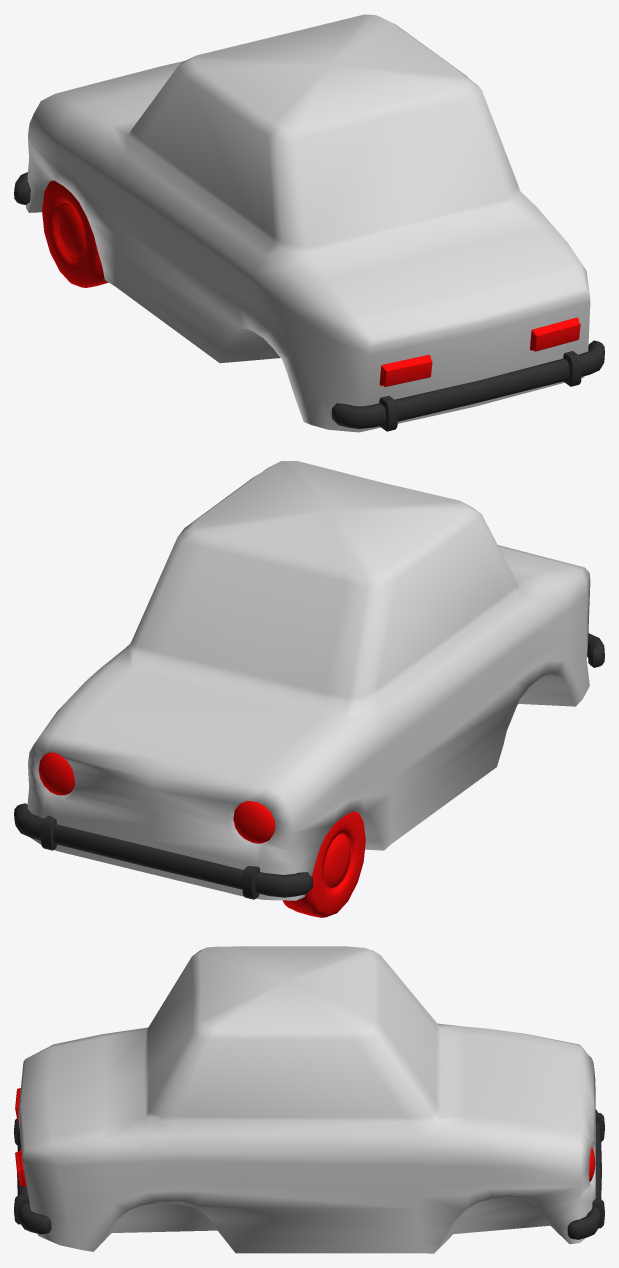
Rendered from Unocar.fbx.
3 renders of one model, top to bottom at view 1: azimuth 30°, elevation 25°; view 2: azimuth 150°, elevation 25°; view 3: azimuth 270°, elevation 25°, orthographic. The views are drawn at different scales.
Parts seen in each view (by area): view 1: Body, Bumper, Wheel, Headlights; view 2: Body, Bumper, Wheel, Headlights; view 3: Body, Bumper, Headlights.
Part boxes in pixels (x1=…): Body: x1=26, y1=14, x2=590, y2=432; Bumper: x1=14, y1=172, x2=604, y2=431; Wheel: x1=42, y1=180, x2=108, y2=287; Headlights: x1=379, y1=317, x2=580, y2=386; Body: x1=27, y1=461, x2=590, y2=900; Bumper: x1=14, y1=633, x2=604, y2=899; Wheel: x1=282, y1=811, x2=365, y2=917; Headlights: x1=38, y1=752, x2=275, y2=843; Body: x1=18, y1=946, x2=595, y2=1253; Bumper: x1=14, y1=1109, x2=604, y2=1239; Headlights: x1=15, y1=1078, x2=595, y2=1187.
Bounding box in the file's own units: 1.09 × 0.9935 × 2.18.
